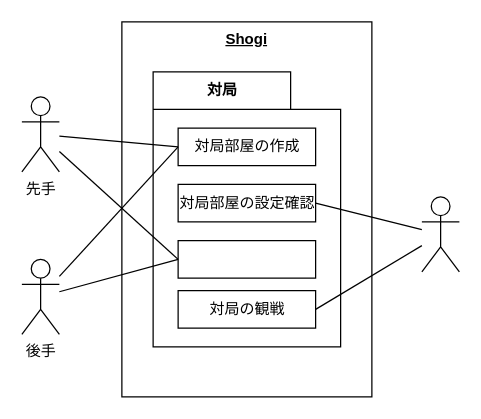
The diagram is 481 pixels wide and 419 high, and some of its shapes have lost their labels. The centre of each missing label's shape, as x and y in pixels:
"対局の開始" goes at (246,258).
"観客" goes at (440,234).
